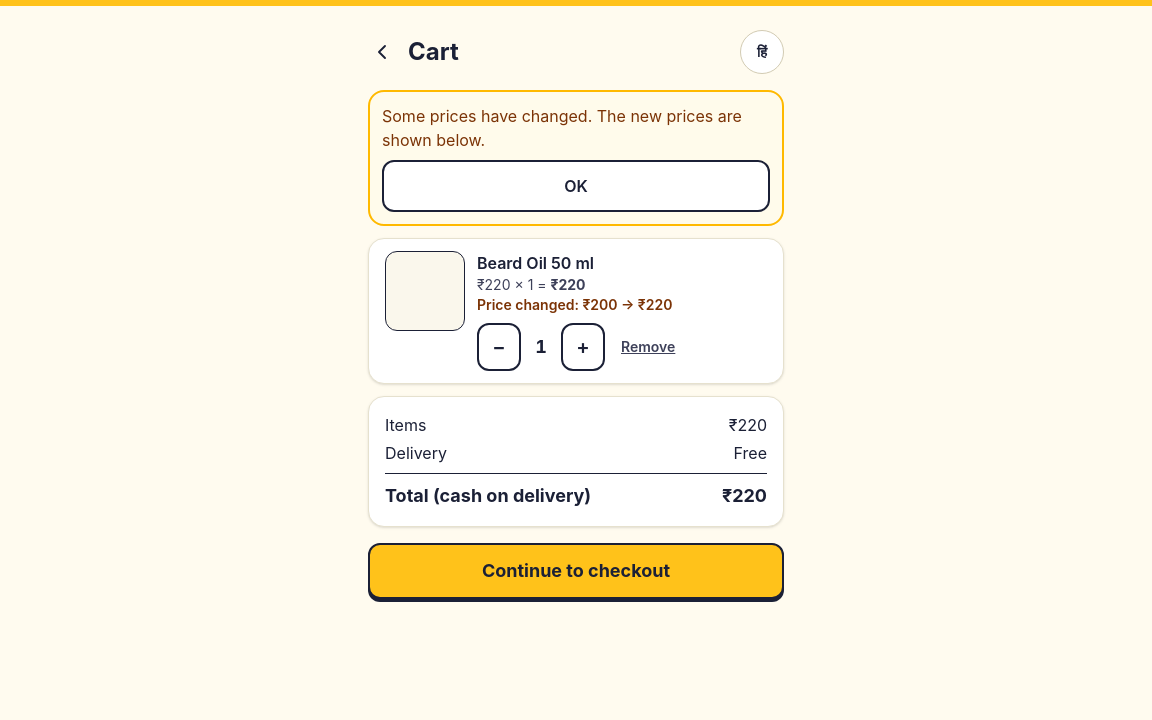
Cart › points out a price change and remembers it once accepted
Expected: the text "Price changed: ₹200 → ₹220" is shown, [477,296,672,313]
Click the button "OK" at (576, 186), box [382,160,770,212]
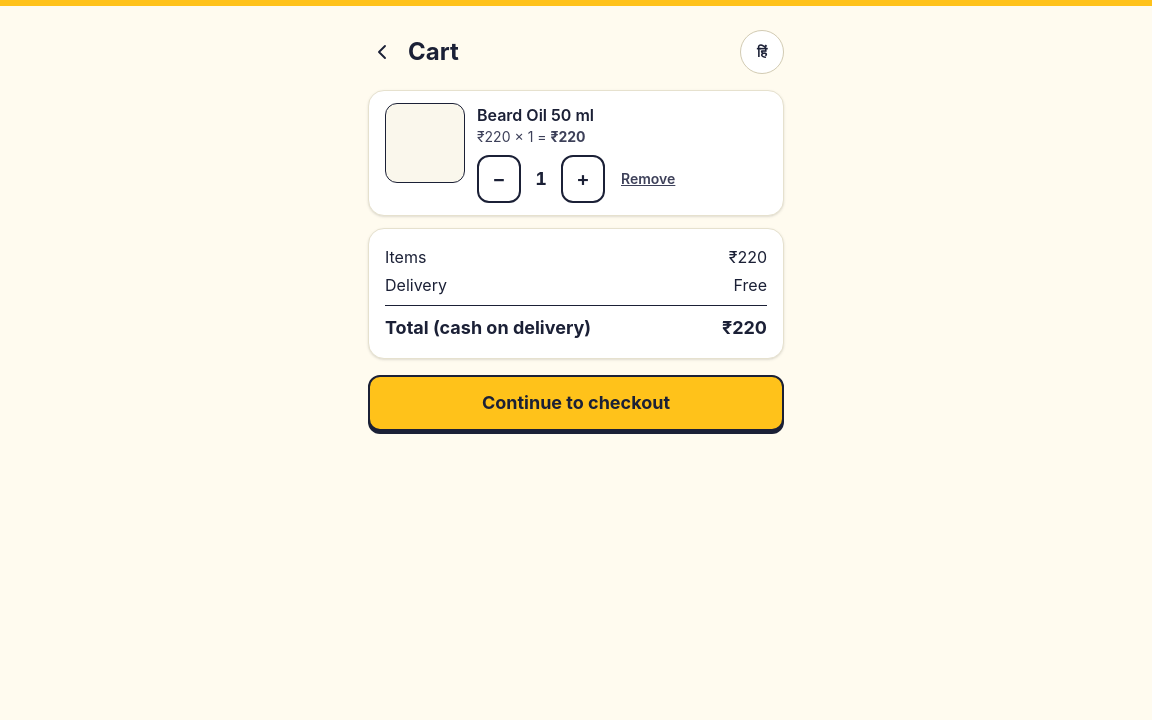
Expected: the text "Price changed" is gone
